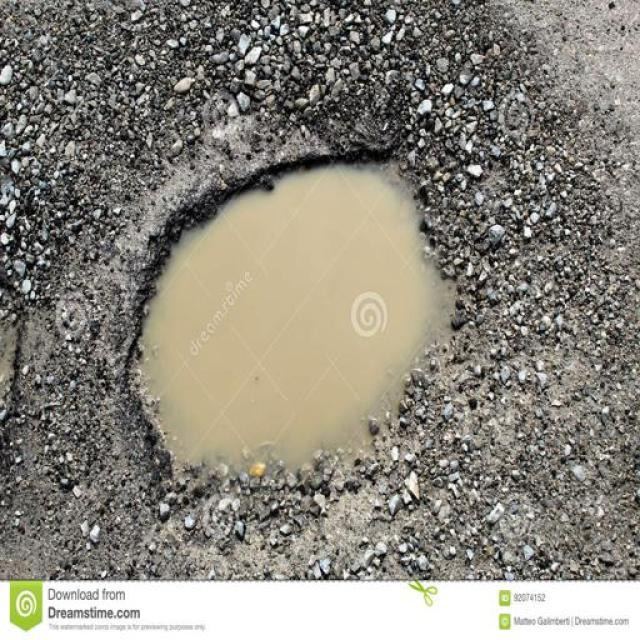puddle: (134, 173, 452, 480)
